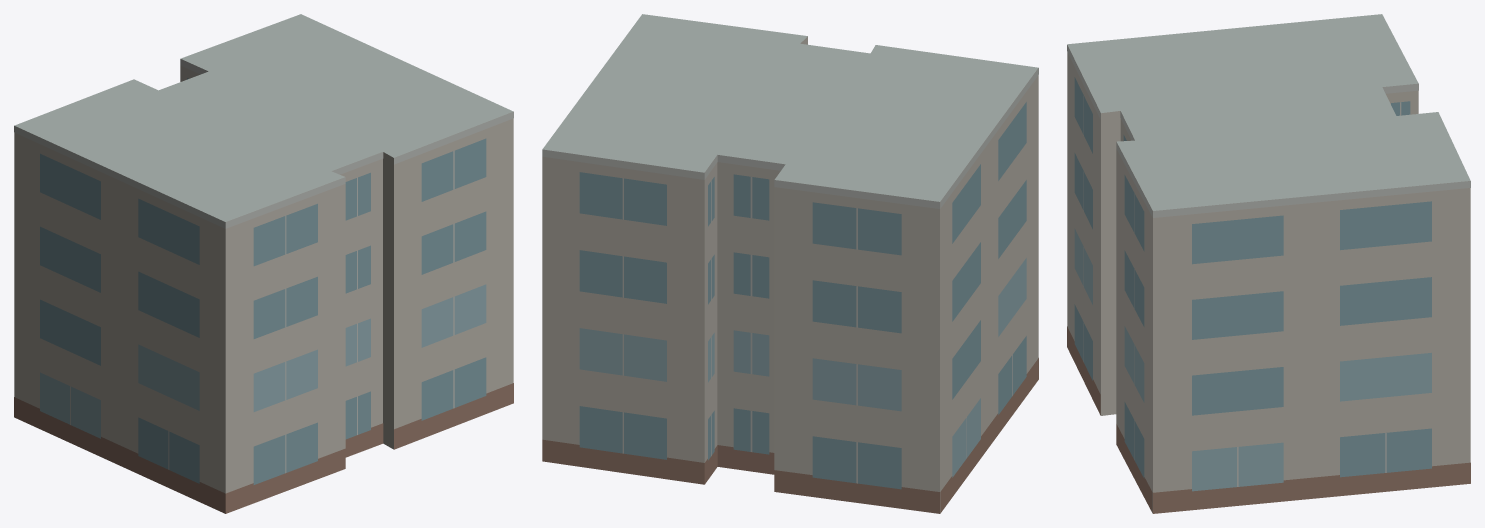
Rendered from survey-upis-32677436.glb.
3 renders of one model, left to right at view 1: azimuth 30°, elevation 25°; view 2: azimuth 150°, elevation 25°; view 3: azimuth 270°, elevation 25°, orthographic. The views are drawn at different scales.
Parts seen in each view (by area): view 1: survey-upis-32677436.tmp; view 2: survey-upis-32677436.tmp; view 3: survey-upis-32677436.tmp.
Boxes of the visible parts, left/top/right/bottom form: survey-upis-32677436.tmp: left=14, top=14, right=513, bottom=513; survey-upis-32677436.tmp: left=542, top=14, right=1038, bottom=513; survey-upis-32677436.tmp: left=1067, top=14, right=1470, bottom=513.
Size of the model in its own units: 14.73 by 10.55 by 12.76.
